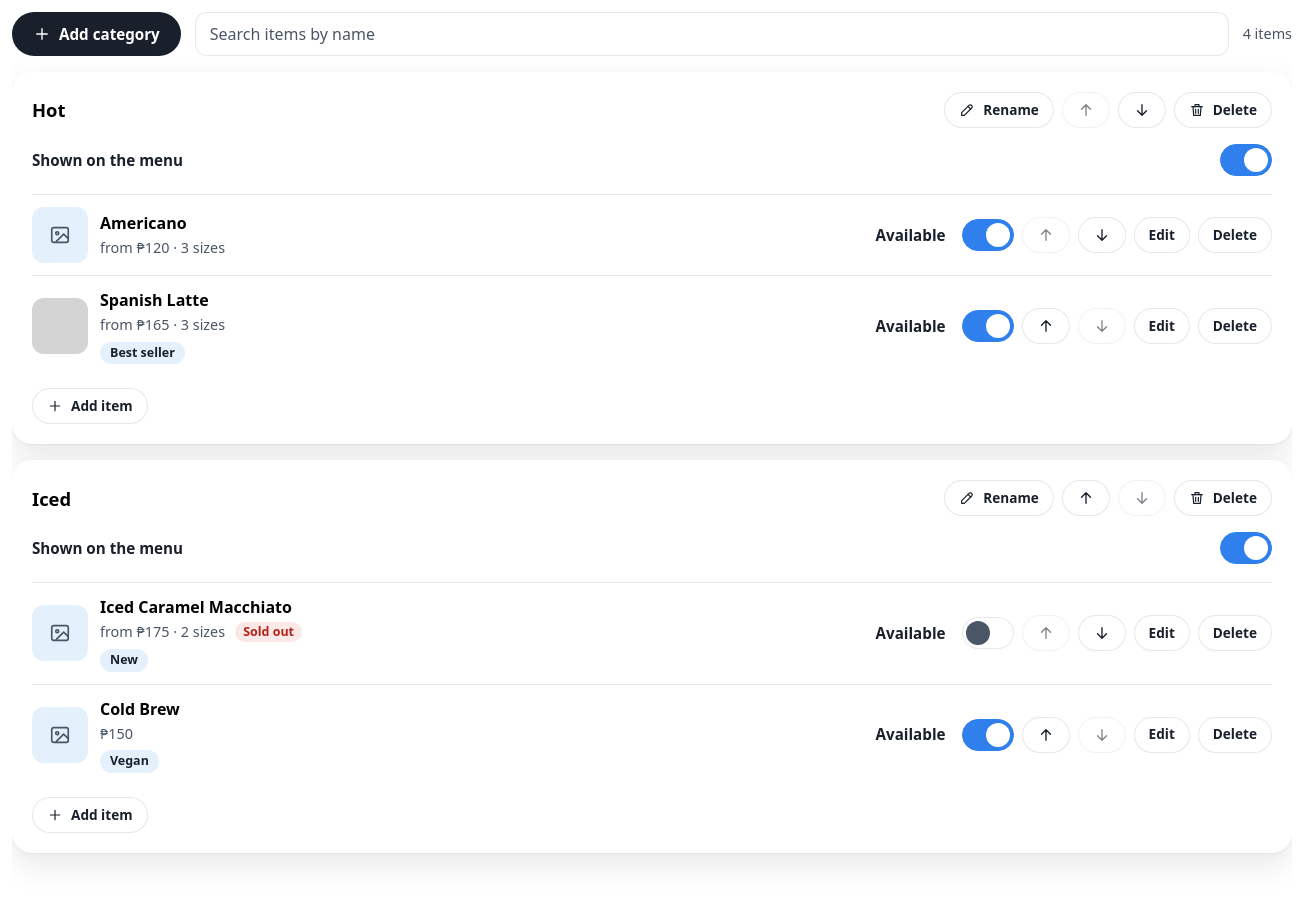
Test: ItemsTab availability › shows a failure in words and leaves the item as it was
Step 1. Click the switch named "Available: Cold Brew" in the row of "Cold Brew" → {"x": 988, "y": 735}, box [962, 713, 1014, 757]
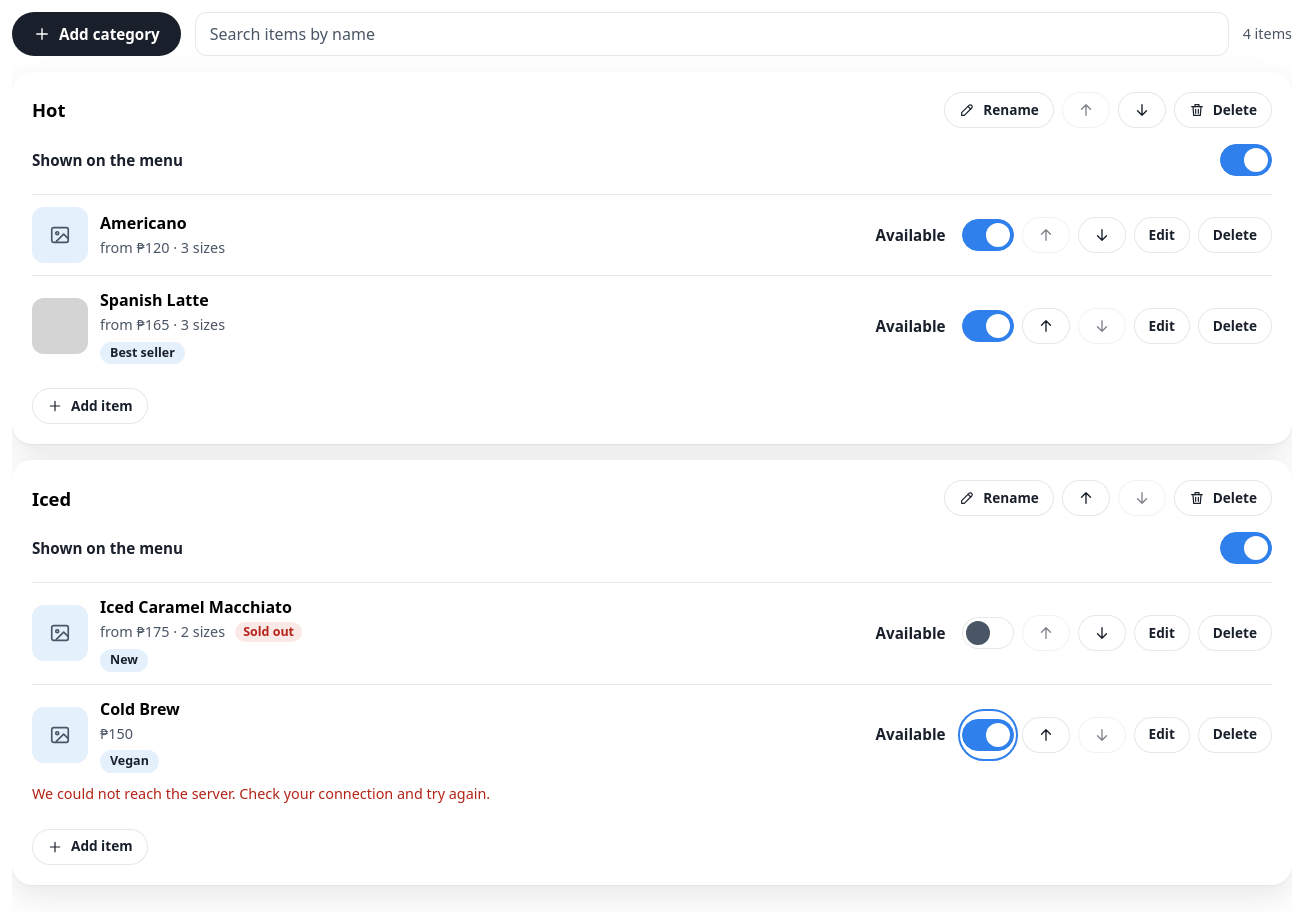
Check: the message reads "We could not reach the server. Check your connection and try again.", box [32, 784, 490, 803]
